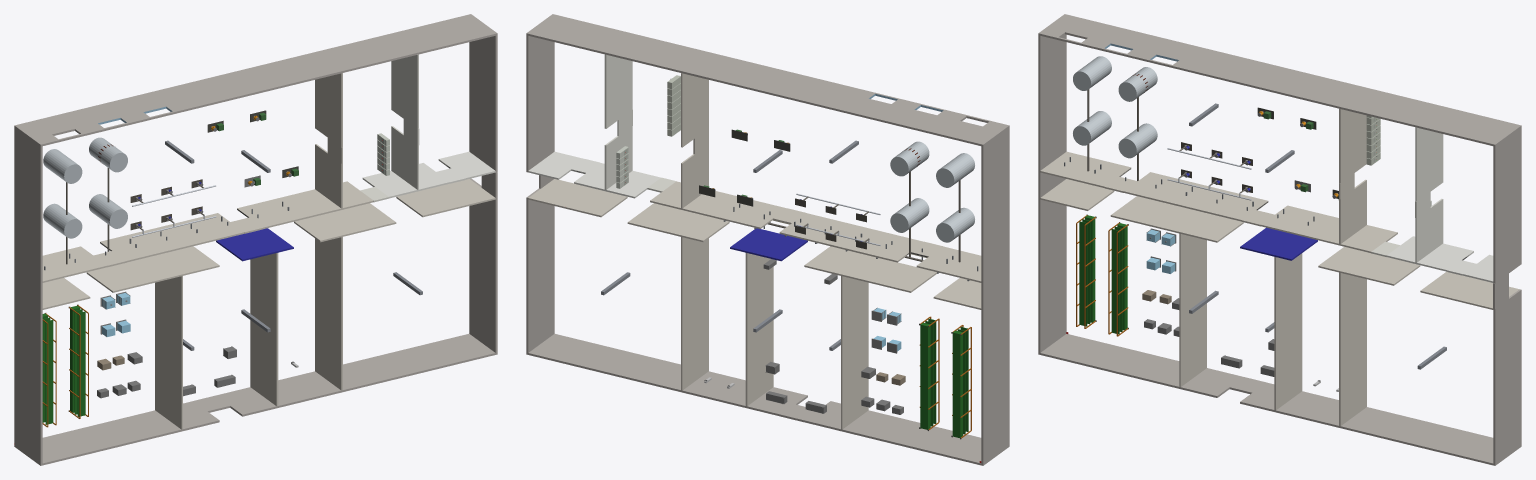
Rendered from inspection_facility_visual.obj.
3 views of the same model, side by side, from view 1: azimuth 30°, elevation 25°; view 2: azimuth 150°, elevation 25°; view 3: azimuth 330°, elevation 25° (orthographic).
Visible parts, largest first — view 1: MAINT_ToolCabinet_02_Body; view 2: MAINT_ToolCabinet_02_Body; view 3: MAINT_ToolCabinet_02_Body.
Part boxes in pixels (x1,y1,x2,y2): MAINT_ToolCabinet_02_Body: (14, 14, 497, 465); MAINT_ToolCabinet_02_Body: (526, 14, 1009, 465); MAINT_ToolCabinet_02_Body: (1038, 14, 1521, 465).
Bounding box in the file's own units: 60 × 40.31 × 6.05.
